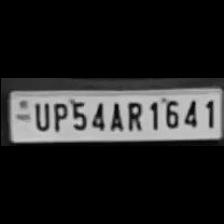1: (144, 97, 162, 130), (199, 97, 217, 129)
4: (88, 97, 106, 130), (181, 97, 199, 129)
5: (67, 97, 87, 130)
6: (160, 96, 180, 130)
A: (104, 99, 124, 131)
P: (49, 100, 67, 132)
R: (122, 99, 144, 131)
U: (29, 99, 49, 131)
